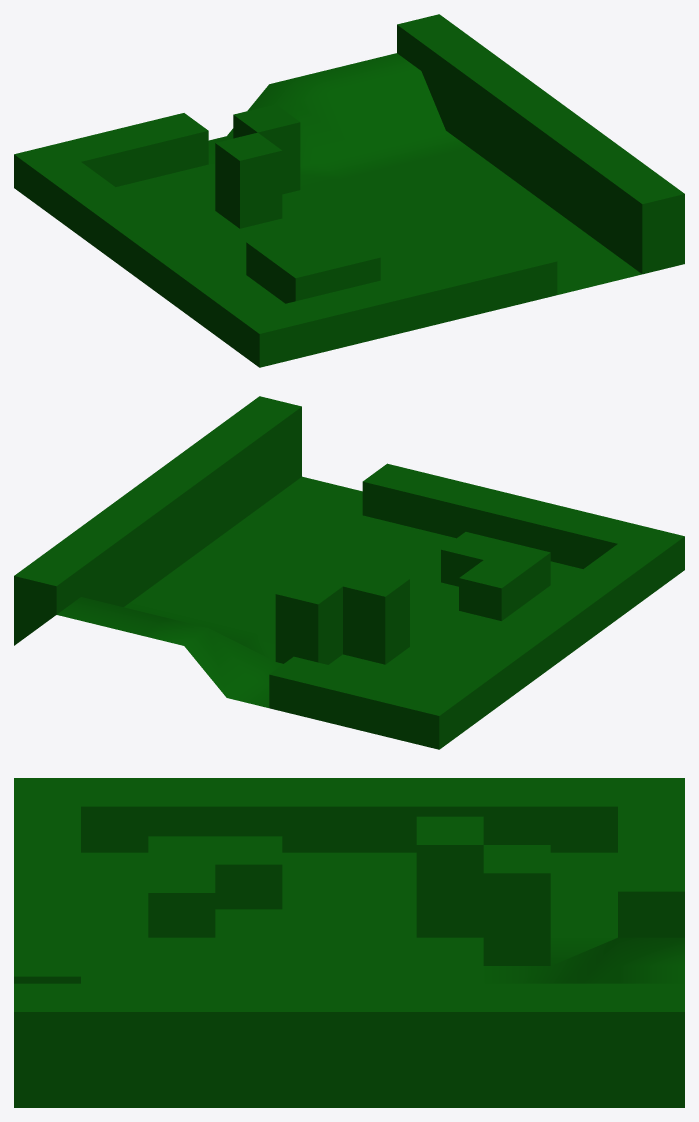
Rendered from Ground7.fbx.
3 views of the same model, one above another, from view 1: azimuth 30°, elevation 25°; view 2: azimuth 150°, elevation 25°; view 3: azimuth 270°, elevation 25° (orthographic). The views are drawn at different scales.
Visible parts, largest first — view 1: pPlane8; view 2: pPlane8; view 3: pPlane8.
Part boxes in pixels (left/top/right/bottom): pPlane8: left=14, top=14, right=684, bottom=367; pPlane8: left=14, top=396, right=684, bottom=749; pPlane8: left=14, top=778, right=684, bottom=1107.
Bounding box in the file's own units: 300 × 47.24 × 300.
